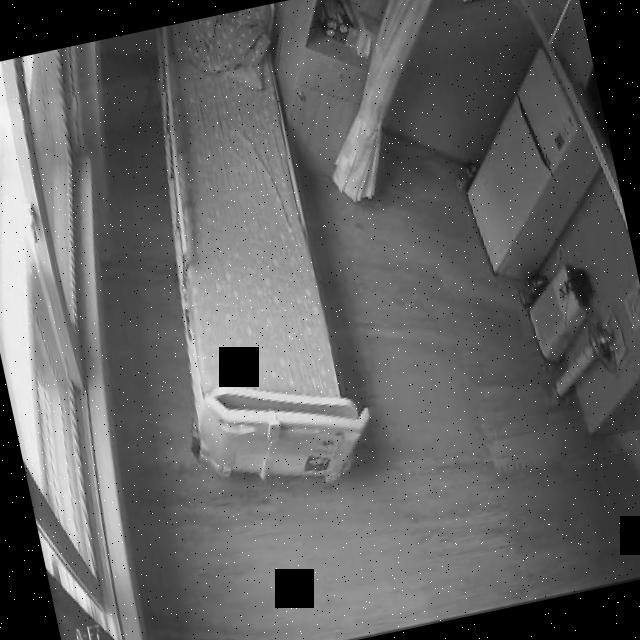bed: (112, 3, 380, 505)
